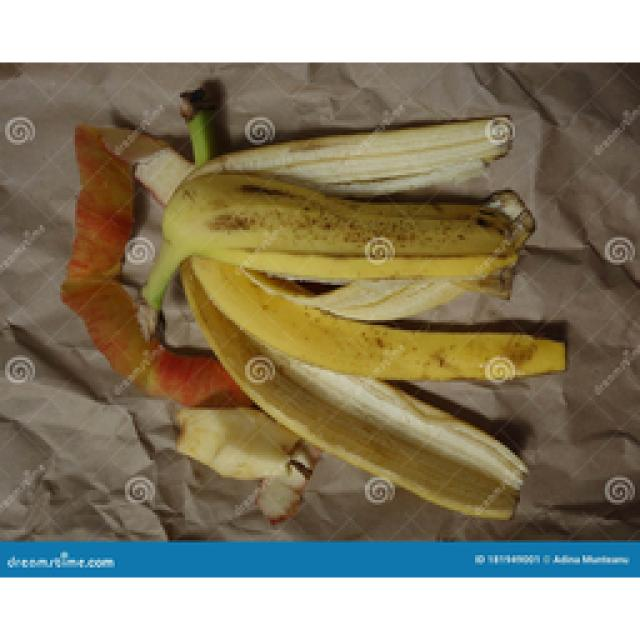food_waste: (135, 118, 562, 518), (62, 125, 238, 402)
